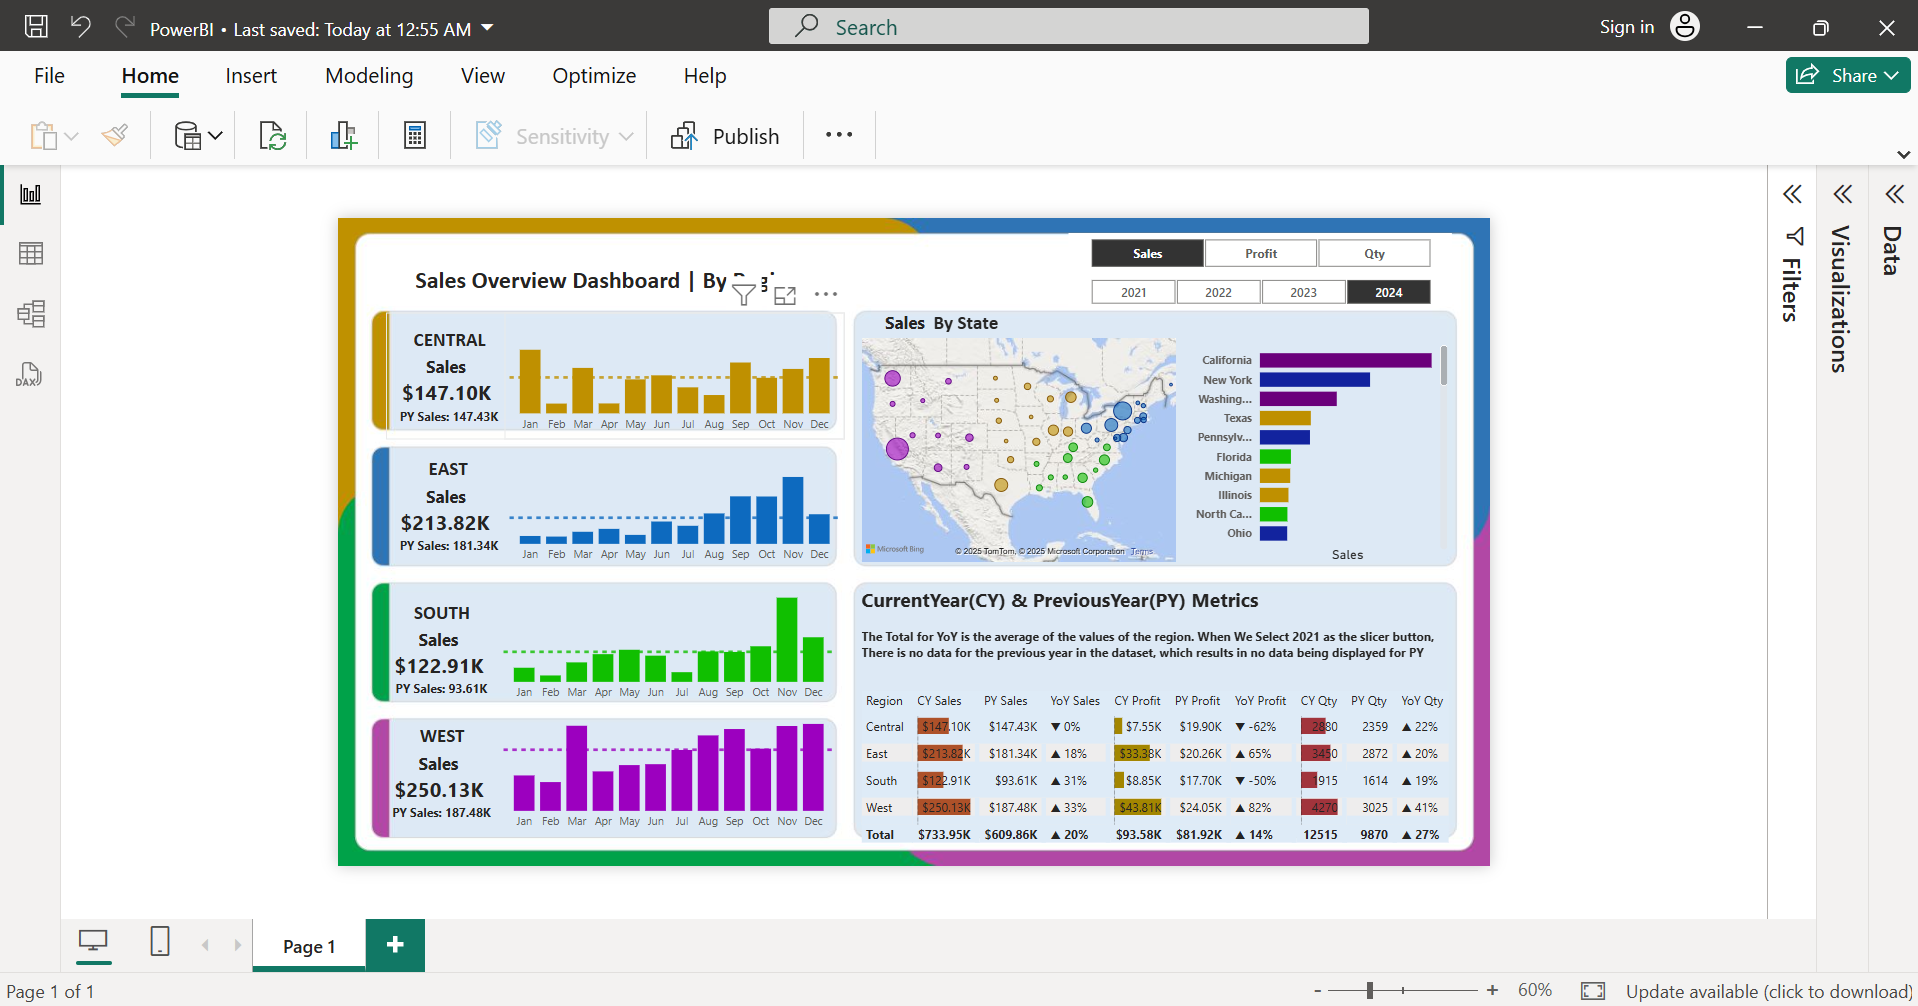

What the dashboard file says about the page in this screenshot:
{"tool":"powerbi","page":{"name":"Page 1","canvas":[1280,720],"ordinal":0},"visuals":[{"type":"slicer","fields":{"Values":["Select Metrics.Select Metrics"]},"box":[811.2,17.5,426.3,44.5],"z":0},{"type":"card","fields":{"Values":["Sales Data.Total Sales"]},"box":[60.9,167.4,117.2,54.8],"z":0,"group":"g1"},{"type":"textbox","box":[60.9,116.3,124.7,35.9],"z":1000,"group":"g1"},{"type":"card","fields":{"Values":["Sales Data.Total Sales"]},"box":[60.5,311.8,117.2,54.8],"z":1000},{"type":"card","fields":{"Values":["Sales Data.Dynamic Title"]},"box":[53.3,146.6,132.3,39.7],"z":2000,"group":"g1"},{"type":"card","fields":{"Values":["Sales Data.Total Sales"]},"box":[52.9,470.6,117.2,54.8],"z":2000},{"type":"card","fields":{"Values":["Sales Data.Dynamic Title"]},"box":[563.2,90.7,132.3,54.8],"z":3000},{"type":"card","fields":{"Values":["Sales Data.PY KPI SALES"]},"box":[60.4,197.6,125.7,49.3],"z":3000,"group":"g1"},{"type":"clusteredColumnChart","fields":{"Y":["Sales Data.Total Sales"],"Category":["Calendar Table.Month"]},"box":[185.6,105,378,141.7],"z":4000,"group":"g1"},{"type":"card","fields":{"Values":["Sales Data.Total Sales"]},"box":[52.9,608.5,117.2,54.8],"z":4000},{"type":"slicer","fields":{"Values":["Calendar Table.Year"]},"box":[811.2,62,426.3,36.6],"z":5000},{"type":"textbox","box":[60.5,260.8,124.7,35.9],"z":6000},{"type":"textbox","box":[52.9,419.5,124.7,35.9],"z":7000},{"type":"textbox","box":[52.9,557.5,124.7,35.9],"z":8000},{"type":"textbox","box":[45.4,47.2,510.2,51],"z":9000},{"type":"card","fields":{"Values":["Sales Data.Dynamic Title"]},"box":[52.9,291,132.3,39.7],"z":10000},{"type":"card","fields":{"Values":["Sales Data.Dynamic Title"]},"box":[45.4,449.8,132.3,39.7],"z":11000},{"type":"card","fields":{"Values":["Sales Data.Dynamic Title"]},"box":[45.4,587.7,132.3,39.7],"z":12000},{"type":"group","id":"g1","title":"Group 1","box":[53.3,105,510,141.7],"z":13000},{"type":"card","fields":{"Values":["Sales Data.PY KPI SALES"]},"box":[60,342.1,125.7,49.3],"z":14000},{"type":"card","fields":{"Values":["Sales Data.PY KPI SALES"]},"box":[52.5,500.8,125.7,49.3],"z":15000},{"type":"card","fields":{"Values":["Sales Data.PY KPI SALES"]},"box":[52.5,638.8,125.7,49.3],"z":16000},{"type":"clusteredColumnChart","fields":{"Y":["Sales Data.Total Sales"],"Category":["Calendar Table.Month"]},"box":[185.2,249.5,378,141.7],"z":17000},{"type":"clusteredColumnChart","fields":{"Y":["Sales Data.Total Sales"],"Category":["Calendar Table.Month"]},"box":[178.9,404,378,141.7],"z":18000},{"type":"clusteredColumnChart","fields":{"Y":["Sales Data.Total Sales"],"Category":["Calendar Table.Month"]},"box":[177.6,546.1,378,141.7],"z":19000},{"type":"map","fields":{"Size":["Sales Data.Total Sales"],"Category":["Sales Data.State/Province"],"Series":["Sales Data.Region"]},"box":[576.4,128.5,359.1,258.9],"z":20000},{"type":"textbox","box":[640.6,98.3,115.3,51],"z":21000},{"type":"barChart","fields":{"Y":["Sales Data.Total Sales"],"Category":["Sales Data.State/Province"],"Series":["Sales Data.Region"]},"box":[935,127.5,302.5,257.5],"z":22000},{"type":"pivotTable","fields":{"Values":["Sales Data.CY Sales","Sales Data.PY Sales","Sales Data.YoY Sales","Sales Data.CY Profit","Sales Data.PY Profit","Sales Data.YoY Profit","Sales Data.CY Qty","Sales Data.PY Qty","Sales Data.YoY Qty"],"Rows":["Sales Data.Region"]},"box":[576.7,520,680,195],"z":23000},{"type":"textbox","box":[576.7,403.3,661.7,121.7],"z":24000}]}

Visuals, with their boxes on the page's 1280x720 design canvas (x1, y1, x2, y2). These are canvas units, not pixel positions in the 1918x1006 screenshot, which may show the page scaled, cropped or inside an application window:
slicer - Select Metrics.Select Metrics: box(811, 18, 1238, 62)
card - Sales Data.Total Sales: box(61, 167, 178, 222)
textbox: box(61, 116, 186, 152)
card - Sales Data.Total Sales: box(60, 312, 178, 367)
card - Sales Data.Dynamic Title: box(53, 147, 186, 186)
card - Sales Data.Total Sales: box(53, 471, 170, 525)
card - Sales Data.Dynamic Title: box(563, 91, 696, 146)
card - Sales Data.PY KPI SALES: box(60, 198, 186, 247)
clusteredColumnChart - Sales Data.Total Sales x Calendar Table.Month: box(186, 105, 564, 247)
card - Sales Data.Total Sales: box(53, 608, 170, 663)
slicer - Calendar Table.Year: box(811, 62, 1238, 99)
textbox: box(60, 261, 185, 297)
textbox: box(53, 420, 178, 455)
textbox: box(53, 558, 178, 593)
textbox: box(45, 47, 556, 98)
card - Sales Data.Dynamic Title: box(53, 291, 185, 331)
card - Sales Data.Dynamic Title: box(45, 450, 178, 490)
card - Sales Data.Dynamic Title: box(45, 588, 178, 627)
"Group 1" group: box(53, 105, 563, 247)
card - Sales Data.PY KPI SALES: box(60, 342, 186, 391)
card - Sales Data.PY KPI SALES: box(52, 501, 178, 550)
card - Sales Data.PY KPI SALES: box(52, 639, 178, 688)
clusteredColumnChart - Sales Data.Total Sales x Calendar Table.Month: box(185, 250, 563, 391)
clusteredColumnChart - Sales Data.Total Sales x Calendar Table.Month: box(179, 404, 557, 546)
clusteredColumnChart - Sales Data.Total Sales x Calendar Table.Month: box(178, 546, 556, 688)
map - Sales Data.Total Sales x Sales Data.State/Province: box(576, 128, 936, 387)
textbox: box(641, 98, 756, 149)
barChart - Sales Data.Total Sales x Sales Data.State/Province: box(935, 128, 1238, 385)
pivotTable - Sales Data.CY Sales x Sales Data.PY Sales: box(577, 520, 1257, 715)
textbox: box(577, 403, 1238, 525)
